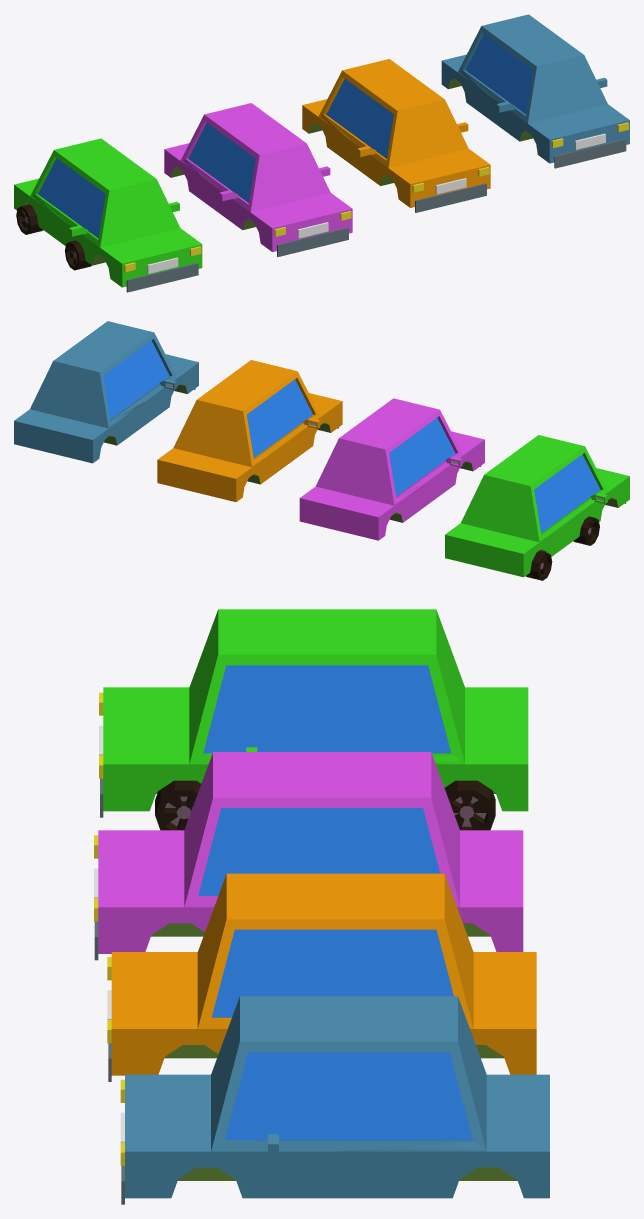
Rendered from simple-low-poly-car.gltf.
3 renders of one model, top to bottom at view 1: azimuth 30°, elevation 25°; view 2: azimuth 150°, elevation 25°; view 3: azimuth 270°, elevation 25°, orthographic. The views are drawn at different scales.
Parts seen in each view (by area): view 1: blue-chassis, pink-chassis, orange-chassis, green-chassis, tire, tire2; view 2: orange-chassis, pink-chassis, blue-chassis, green-chassis, tire, tire2; view 3: blue-chassis, green-chassis, orange-chassis, pink-chassis, tire4, tire3.
Part boxes in pixels (x1,y1,x2,y2): blue-chassis: [441, 14, 629, 168]; pink-chassis: [164, 103, 352, 256]; orange-chassis: [302, 59, 490, 212]; green-chassis: [14, 138, 202, 292]; tire: [16, 204, 43, 234]; tire2: [65, 240, 91, 270]; orange-chassis: [157, 360, 342, 502]; pink-chassis: [299, 398, 484, 540]; blue-chassis: [14, 321, 198, 463]; green-chassis: [445, 435, 629, 577]; tire: [525, 551, 552, 580]; tire2: [573, 516, 599, 545]; blue-chassis: [120, 996, 549, 1204]; green-chassis: [99, 609, 528, 817]; orange-chassis: [107, 873, 536, 1081]; pink-chassis: [94, 752, 523, 960]; tire4: [444, 780, 495, 830]; tire3: [155, 780, 201, 830].
Size of the model in its own units: 13.07 by 2.26 by 4.86.
1 material, 1 textured.
